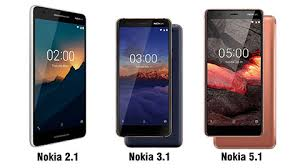nokia: (113, 15, 184, 149), (199, 4, 270, 138), (36, 3, 97, 146)
